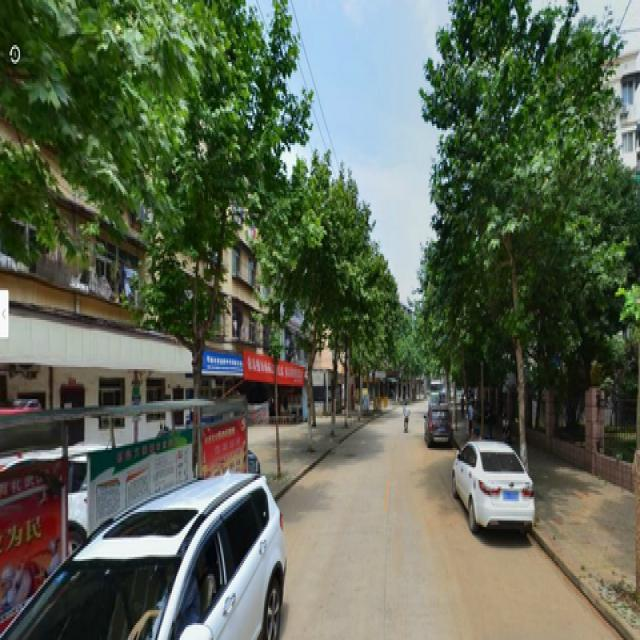meta: (460, 28, 581, 448), (150, 45, 247, 429), (260, 160, 337, 427)
